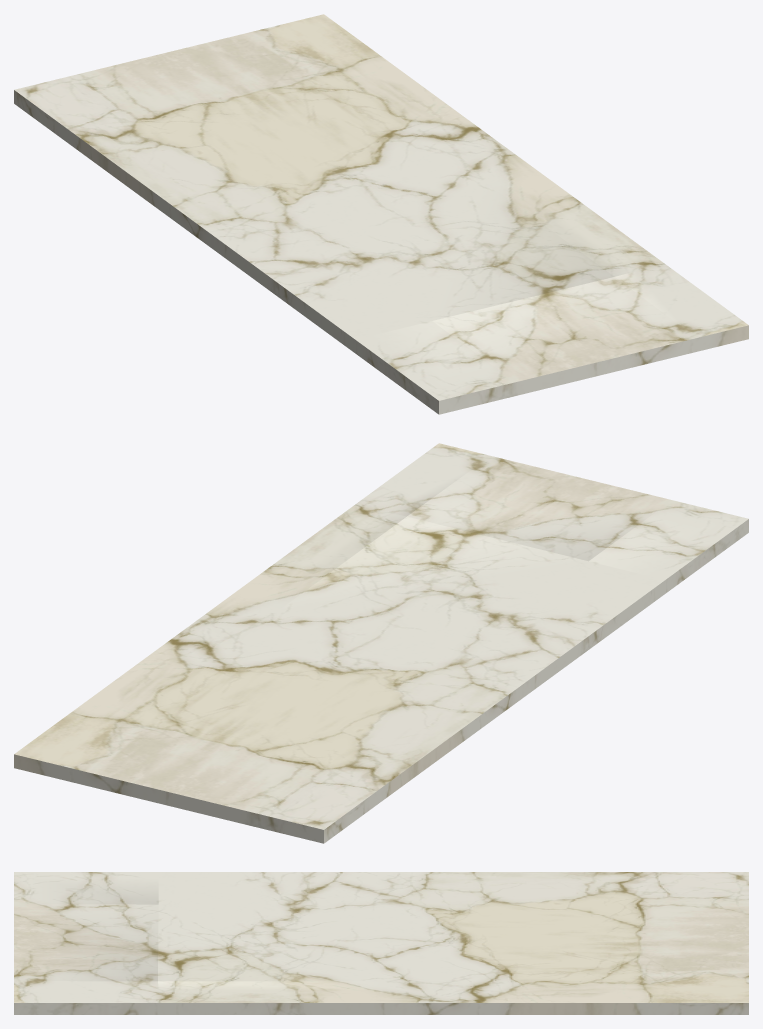
File: countertop-six.glb
3 renders of one model, top to bottom at view 1: azimuth 30°, elevation 25°; view 2: azimuth 150°, elevation 25°; view 3: azimuth 270°, elevation 25°, orthographic. The views are drawn at different scales.
Parts seen in each view (by area): view 1: Cube.038; view 2: Cube.038; view 3: Cube.038.
Part boxes in pixels (box(x1,y1,x2,y2)): Cube.038: box(14, 14, 748, 414); Cube.038: box(14, 443, 748, 843); Cube.038: box(14, 872, 748, 1014).
Bounding box in the file's own units: 0.4699 × 0.02 × 1.12.
1 material, 1 textured.
